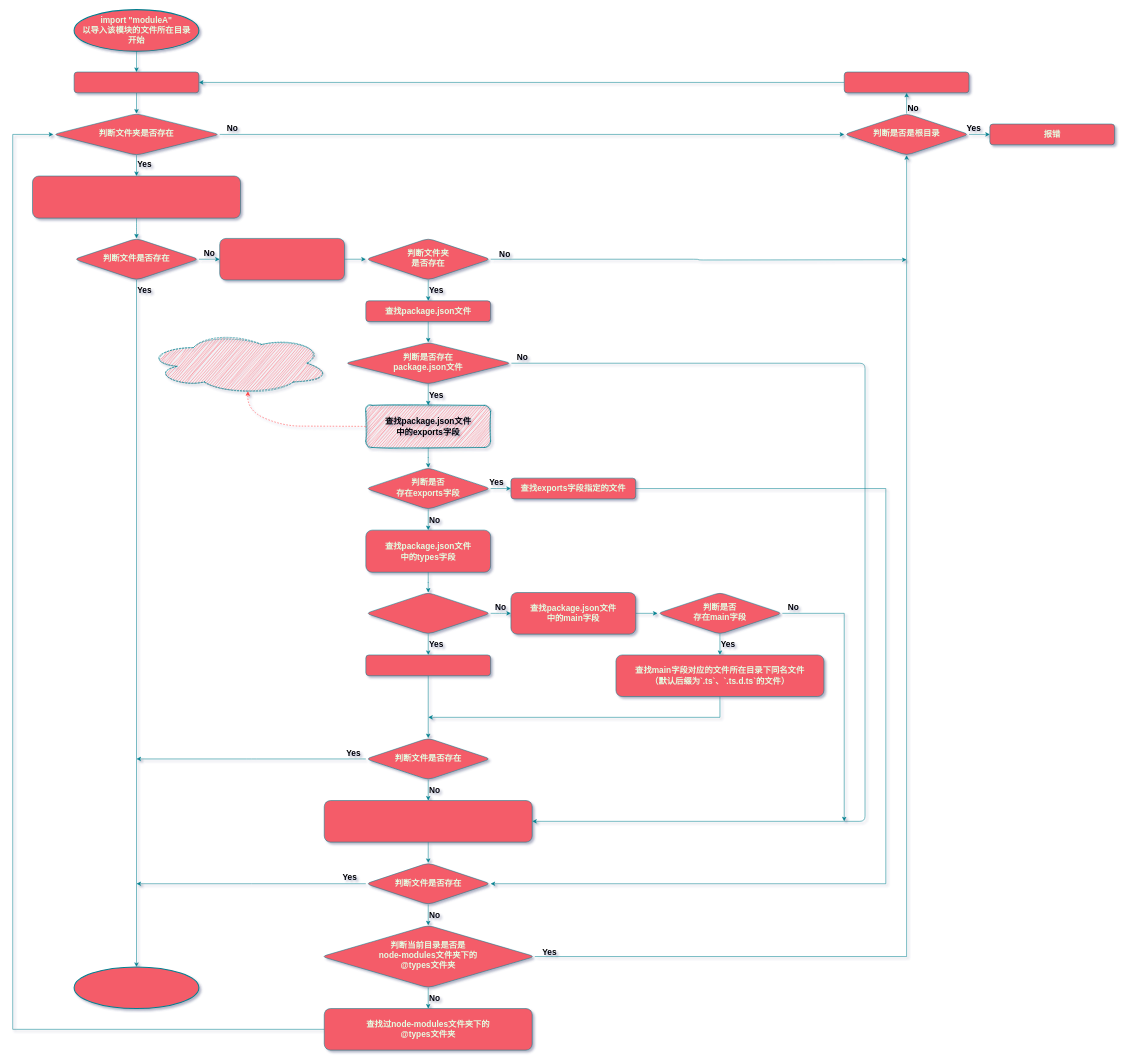
Some shapes in this 1127 by 1062 pixel diagram are drawn without their labels. The centre of each missing label's shape, as x and y in pixels:
"End" goes at (x=136, y=987).
"判断是否 存在types字段" goes at (x=428, y=613).
"取决于tsconfig中 resolvePackageJsonExports 配置项是否开启" goes at (x=238, y=363).
"查找node-modules文件夹" goes at (x=136, y=82).
"查找types字段指定的文件" goes at (x=428, y=665).
"查找对应的文件夹 （以moduleA为名称的文件夹）" goes at (x=281, y=259).
"查找文件夹下是否存在对应的文件 （以index为名称的文件，默认扩展为.ts、.d.ts）" goes at (x=428, y=821).
"返回上一级或上上级目录" goes at (x=906, y=82).
"进入该文件夹目录，查找对应的文件 （以moduleA为名称的文件，默认扩展为.ts、.d.ts）" goes at (x=136, y=197).
